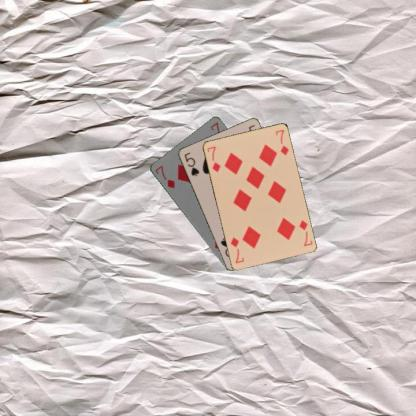5s: (181, 150, 200, 177)
7d: (152, 163, 176, 189), (296, 218, 314, 247), (204, 144, 221, 173)
